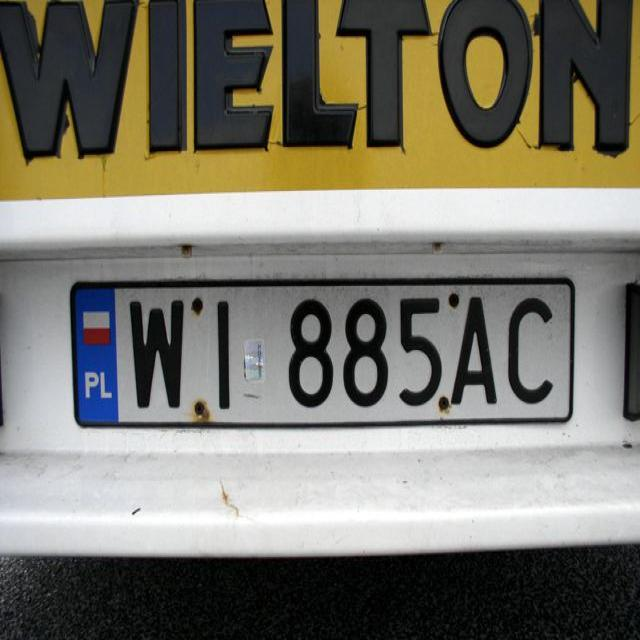pl_license_plate: (71, 283, 572, 421)
